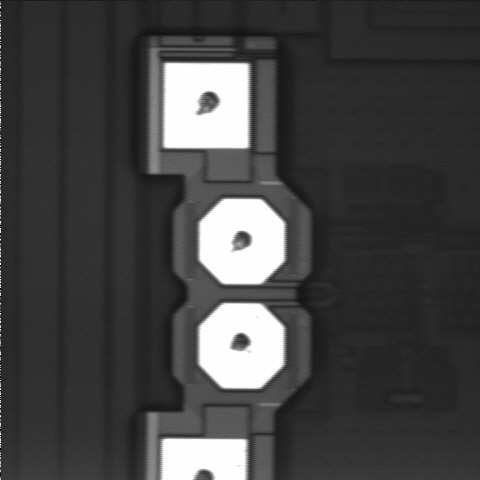pad: (164, 63, 249, 148), (199, 303, 284, 388), (200, 199, 284, 284)
